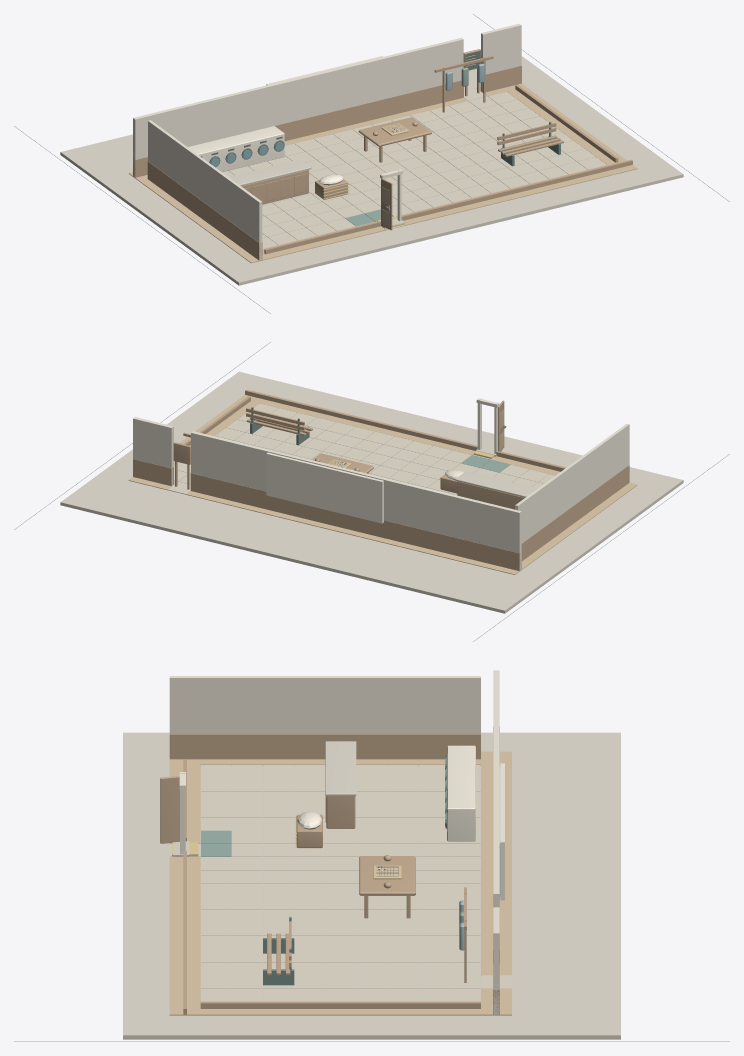
Rendered from room.glb.
3 renders of one model, top to bottom at view 1: azimuth 30°, elevation 25°; view 2: azimuth 150°, elevation 25°; view 3: azimuth 270°, elevation 25°, orthographic. The views are drawn at different scales.
Visible parts, largest first — view 1: ground, cutaway wall, building slab, wainscot, wall foundation, chalk, surrounding corridor seam, ground.150; view 2: building slab, cutaway wall, wainscot, ground, wall foundation, chalk, surrounding corridor seam; view 3: building slab, ground, cutaway wall, wainscot, wall foundation, chalk, surrounding corridor seam, ground.150.
Part boxes in pixels (x1,y1,x2,y2): ground: [222, 88, 606, 248]; cutaway wall: [133, 23, 521, 260]; building slab: [60, 56, 683, 285]; wainscot: [133, 49, 632, 260]; wall foundation: [128, 83, 637, 263]; chalk: [188, 55, 475, 221]; surrounding corridor seam: [14, 14, 729, 313]; ground.150: [345, 67, 468, 226]; building slab: [60, 371, 683, 613]; cutaway wall: [133, 417, 629, 570]; wainscot: [133, 389, 629, 570]; ground: [167, 403, 555, 495]; wall foundation: [128, 390, 637, 574]; chalk: [266, 398, 499, 523]; surrounding corridor seam: [14, 342, 729, 641]; building slab: [123, 732, 620, 1039]; ground: [170, 765, 511, 1001]; cutaway wall: [169, 670, 499, 1014]; wainscot: [160, 727, 499, 1014]; wall foundation: [169, 751, 511, 1015]; chalk: [179, 745, 504, 900]; surrounding corridor seam: [14, 756, 729, 1041]; ground.150: [201, 830, 463, 923].
Size of what is drawn, in the model's own units: 19.01 by 2.45 by 18.4.
